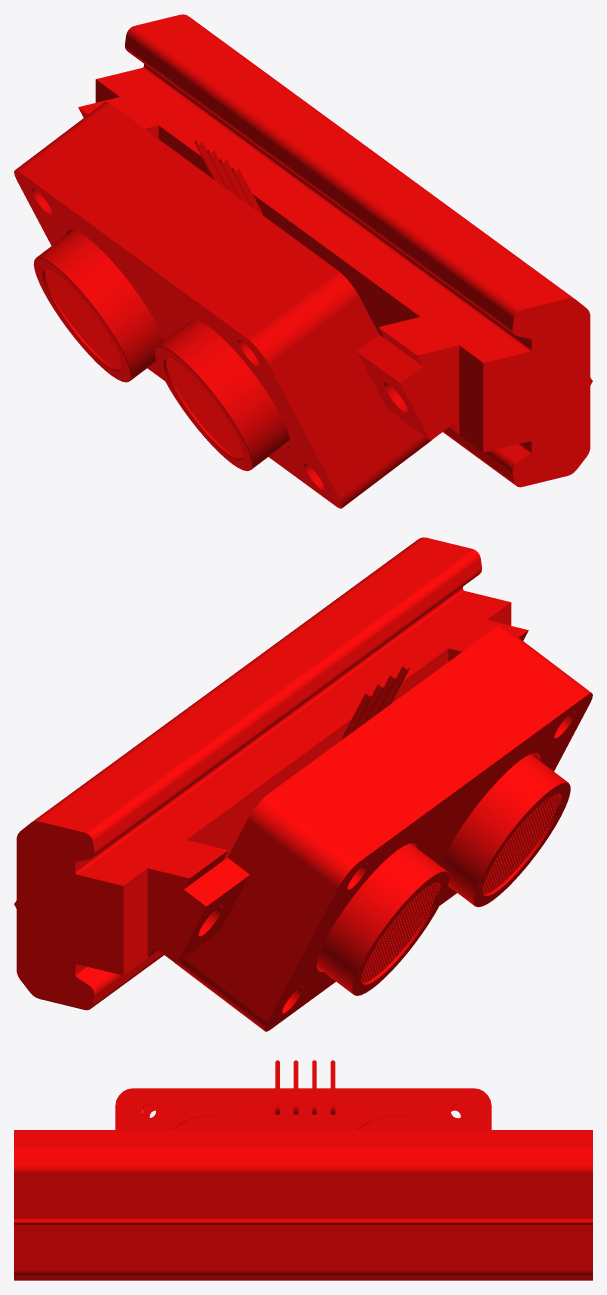
File: sonar4.dae
3 views of the same model, one above another, from view 1: azimuth 30°, elevation 25°; view 2: azimuth 150°, elevation 25°; view 3: azimuth 270°, elevation 25° (orthographic). The views are drawn at different scales.
Visible parts, largest first — view 1: Body1 (×4), Platine.step, HC_SR04_gitter_001.step; view 2: Body1 (×4), Platine.step, HC_SR04_gitter_001.step; view 3: Body1 (×3), Platine.step.
Boxes of the visible parts, <box> form: Body1 (×4): <box>14,14,592,508</box>; Platine.step: <box>33,230,289,471</box>; HC_SR04_gitter_001.step: <box>166,357,243,457</box>; Body1 (×4): <box>14,537,592,1031</box>; Platine.step: <box>316,754,570,995</box>; HC_SR04_gitter_001.step: <box>482,794,559,893</box>; Body1 (×3): <box>14,1060,592,1280</box>; Platine.step: <box>142,1104,464,1129</box>.
Bounding box in the file's own units: 0.0339 × 0.08 × 0.0307.
